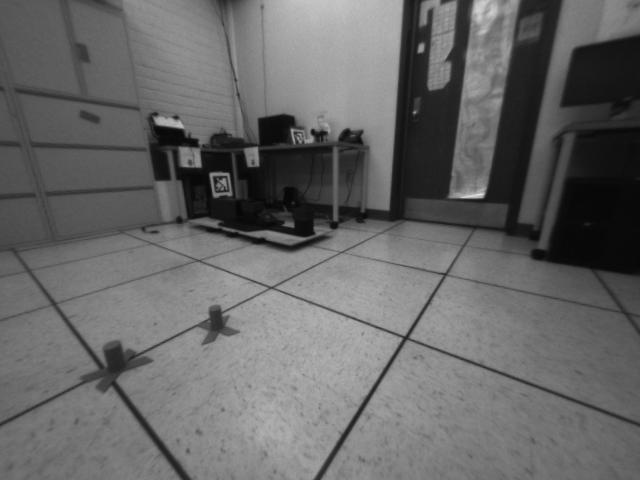X: (78, 338, 155, 392), (194, 304, 242, 346)
